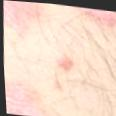plaque psoriasis: (1, 0, 46, 39), (4, 79, 45, 116)
